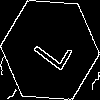L: (25, 25, 73, 73)
